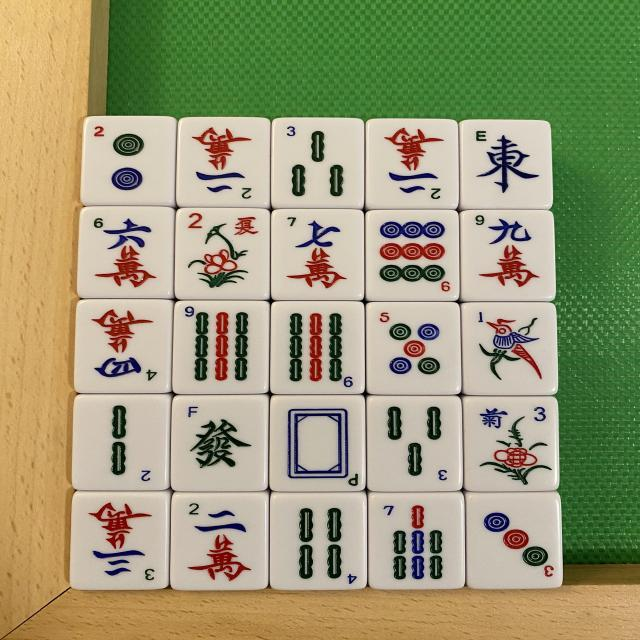bf3: (461, 396, 554, 491)
bs2: (175, 205, 268, 300)
hdg: (170, 394, 266, 494)
hdw: (271, 396, 364, 494)
hwe: (462, 120, 552, 210)
sb1: (468, 310, 548, 390)
sb2: (76, 396, 172, 494)
sb3: (369, 396, 461, 492), (272, 120, 364, 208)
sb4: (268, 496, 366, 596)
sb7: (370, 498, 462, 594)
sb9: (174, 301, 268, 398), (270, 302, 361, 398)
sc2: (171, 492, 267, 590), (367, 122, 458, 212), (177, 122, 270, 204)
sc3: (73, 494, 170, 596)
sc4: (78, 300, 172, 398)
sc6: (80, 205, 176, 298)
sc7: (270, 211, 360, 299)
sc9: (458, 216, 552, 300)
sd2: (83, 118, 175, 205)
sd3: (469, 496, 564, 594)
sd5: (371, 300, 464, 394)
sd9: (367, 212, 459, 304)
